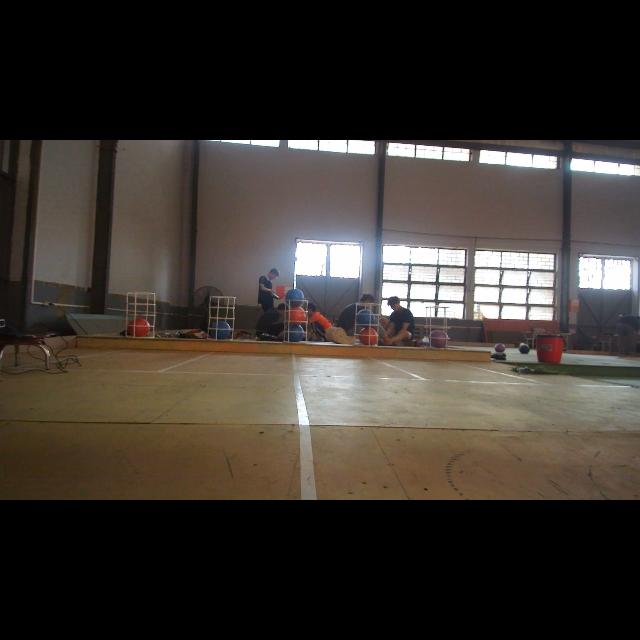B: (211, 321, 231, 339), (286, 324, 304, 342), (286, 290, 304, 306), (356, 310, 374, 326)
R: (128, 318, 150, 336), (286, 307, 306, 325), (359, 328, 377, 344)
